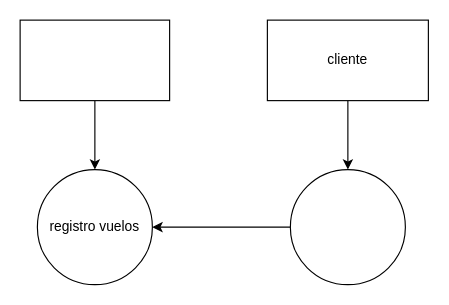
The diagram is 449 pixels wide and 305 high, and some of its shapes have lost their labels. The box of each missing label's shape, as (x1, y1, x2, y2) in pixels:
comprar vuelos: (289, 168, 405, 285)
sistema: (19, 19, 170, 101)
